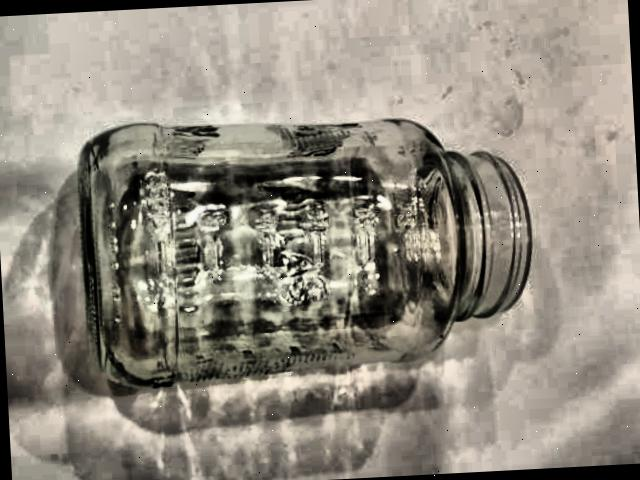Almennt: (38, 80, 542, 440)
